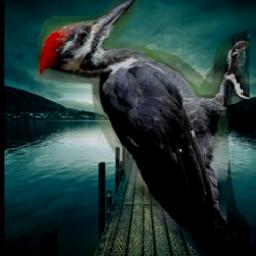Woodpecker: (38, 0, 251, 255)
